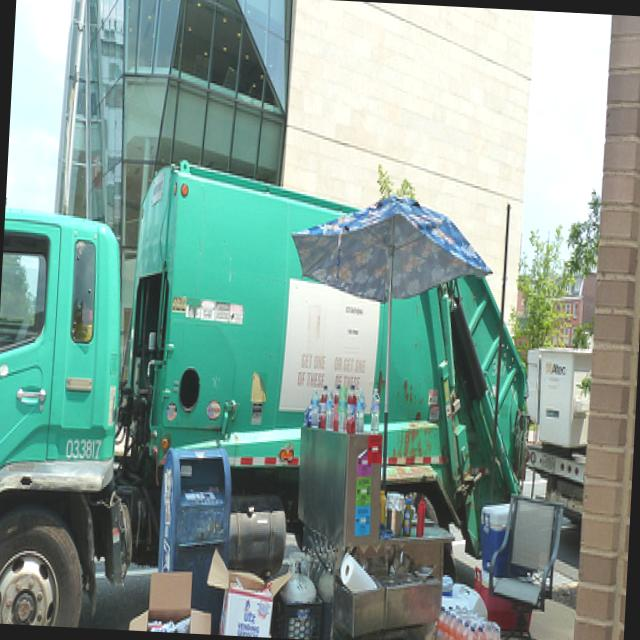Vehicle: (0, 146, 542, 640)
